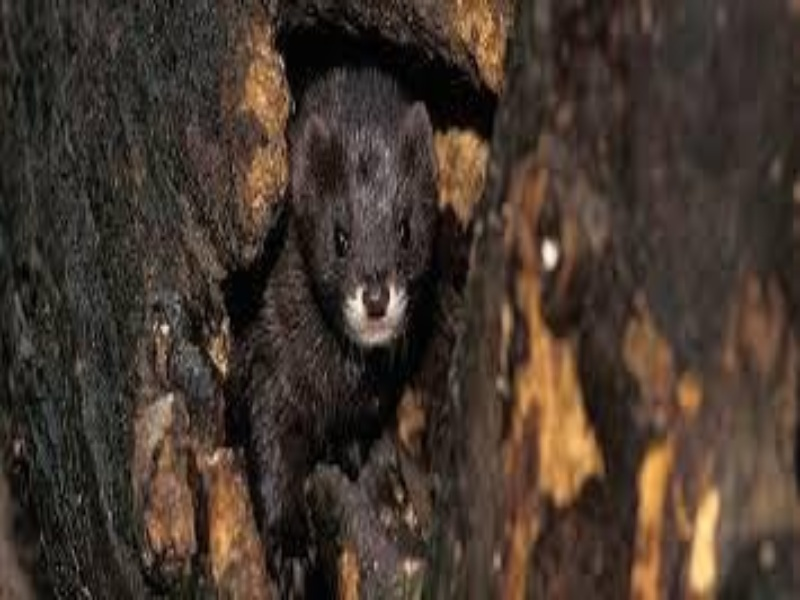minkish: (195, 66, 453, 551)
